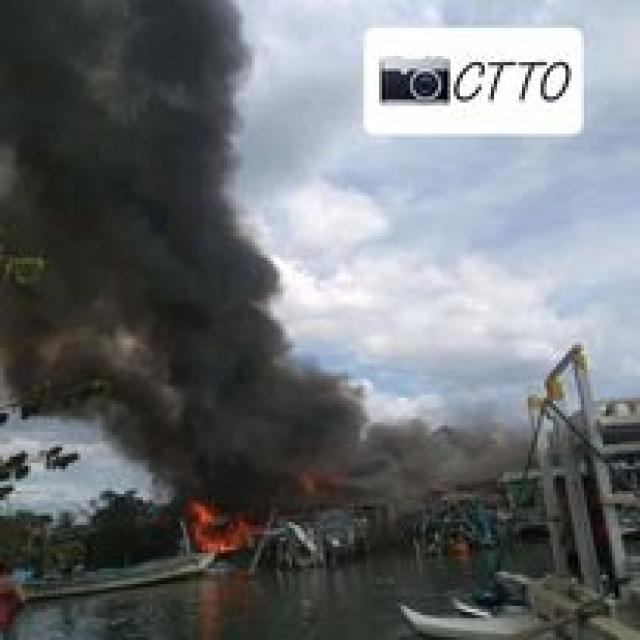Fire: (175, 490, 298, 570)
Smoke: (0, 0, 366, 497)
